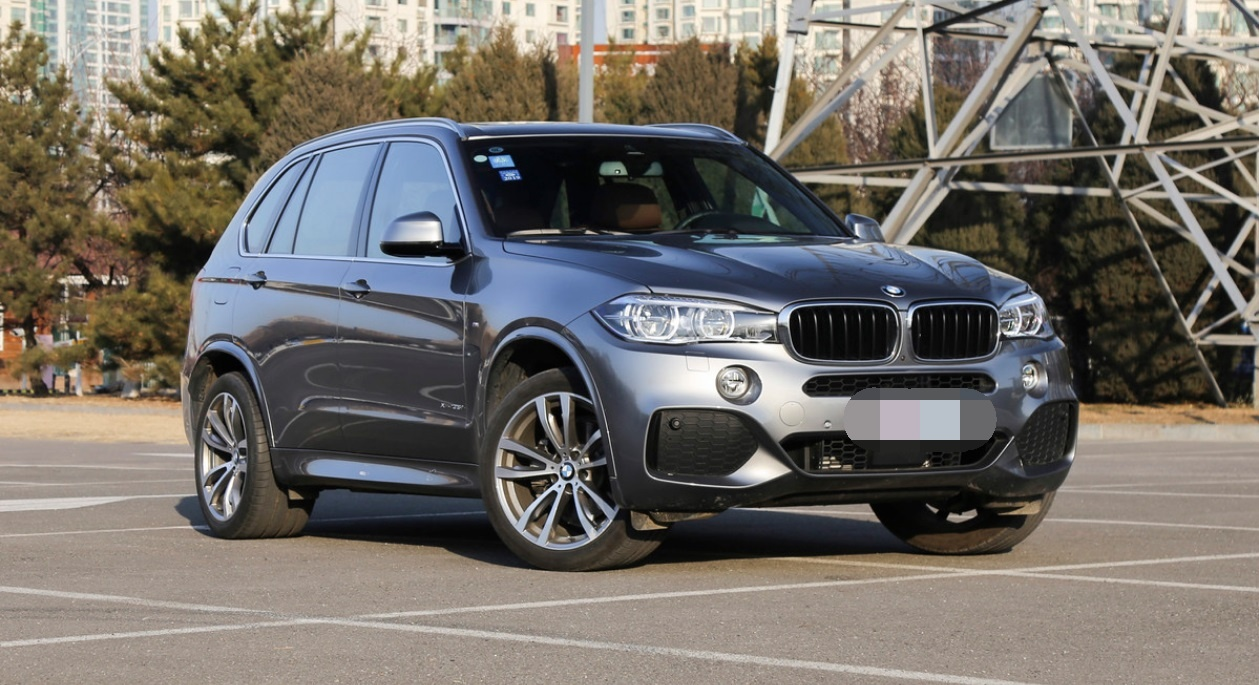SUV: (181, 98, 1085, 572)
